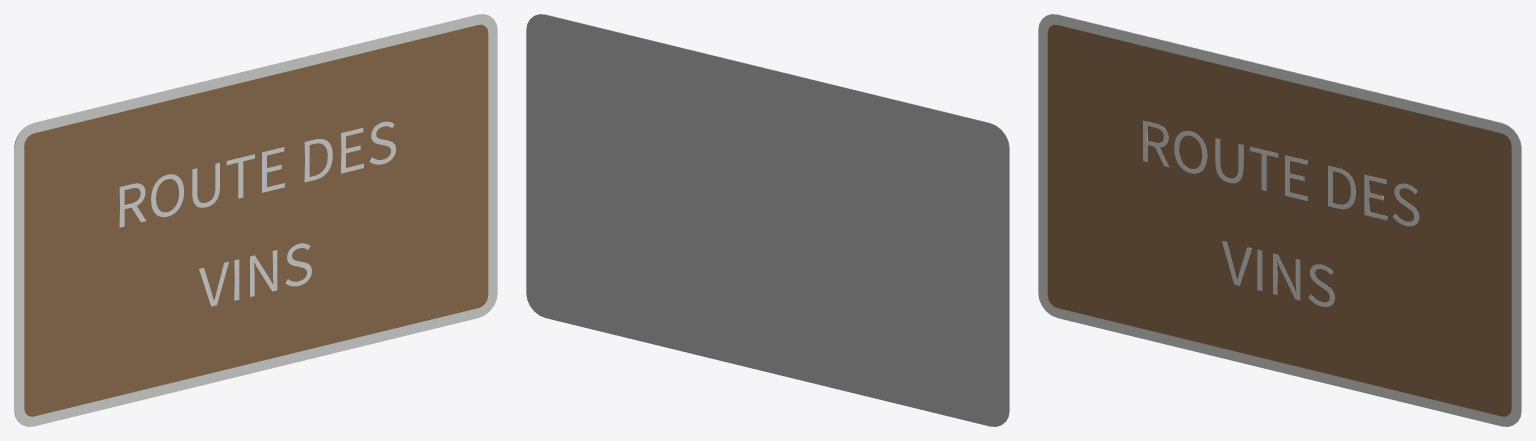
3 renders of one model, left to right at view 1: azimuth 30°, elevation 25°; view 2: azimuth 150°, elevation 25°; view 3: azimuth 330°, elevation 25°, orthographic.
Visible parts, largest first — view 1: H20_r01, H20_r00, H20_txt02, H20_txt03, H20_dos; view 2: H20_dos; view 3: H20_r01, H20_r00, H20_txt02, H20_txt03, H20_dos.
Boxes of the visible parts, x1,y1,x2,y2 form: H20_r01: (24, 24, 488, 416); H20_r00: (14, 14, 497, 426); H20_txt02: (119, 121, 395, 227); H20_txt03: (199, 243, 311, 306); H20_dos: (14, 14, 487, 420); H20_dos: (526, 14, 1009, 426); H20_r01: (1047, 24, 1511, 416); H20_r00: (1038, 14, 1521, 426); H20_txt02: (1143, 120, 1419, 226); H20_txt03: (1222, 241, 1334, 306); H20_dos: (1048, 14, 1521, 420).
Size of the model in its own units: 1 by 0.6 by 0.0029.
